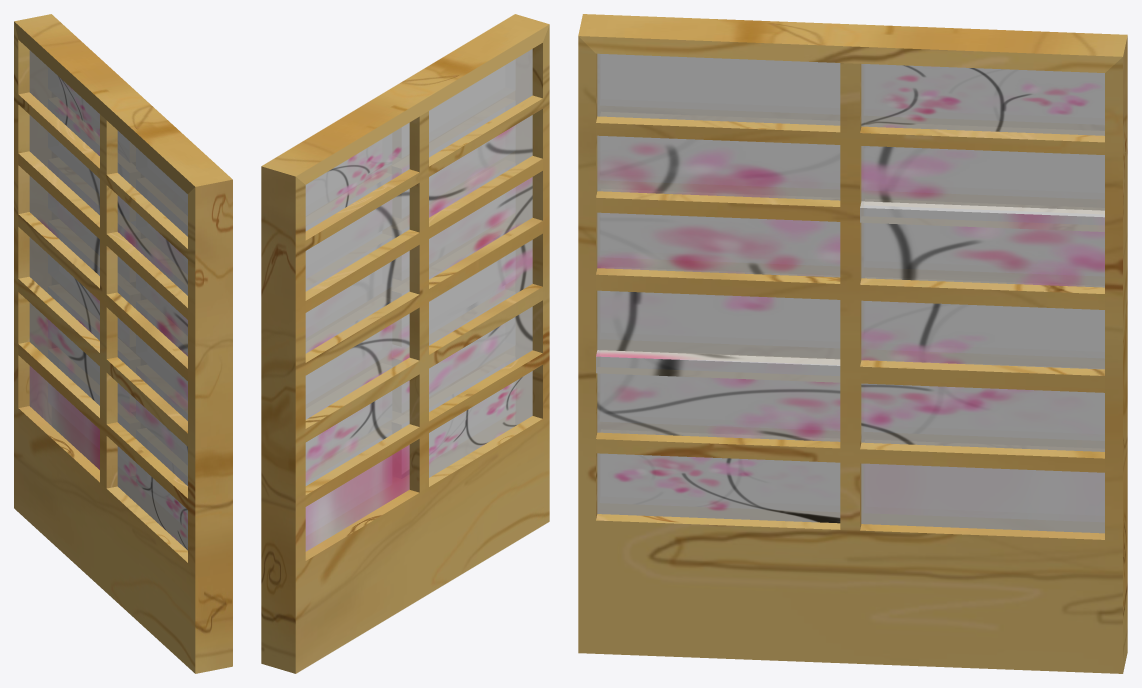
File: sliding_door.fbx
The picture shows the model from 3 angles, left to right: view 1: azimuth 30°, elevation 25°; view 2: azimuth 150°, elevation 25°; view 3: azimuth 270°, elevation 25°; orthographic projection. The views are drawn at different scales.
Parts seen in each view (by area): view 1: pCube48; view 2: pCube48; view 3: pCube48.
Part boxes in pixels (x1=…): pCube48: x1=14, y1=14, x2=232, y2=673; pCube48: x1=261, y1=14, x2=549, y2=673; pCube48: x1=578, y1=14, x2=1127, y2=673.
Size of the model in its own units: 5.54 by 36.74 by 29.65.
2 materials, 2 textured.
